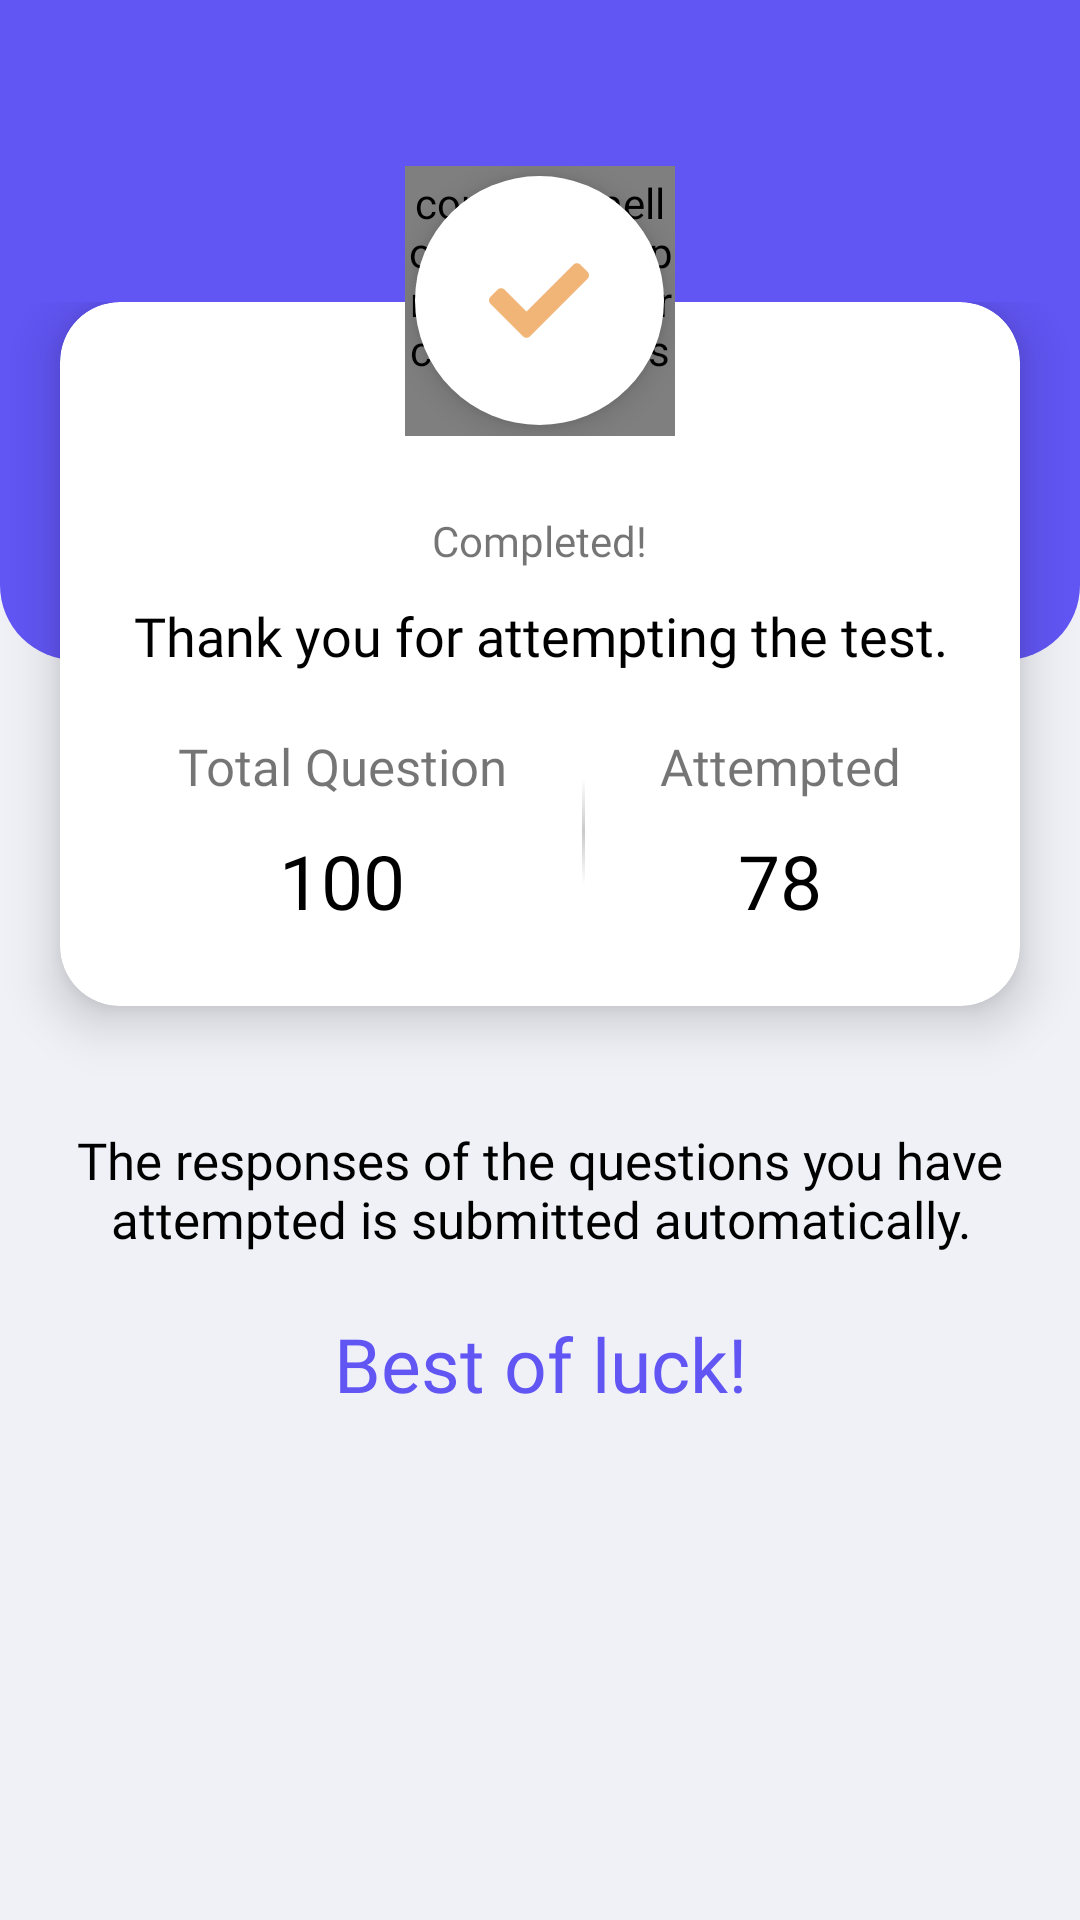

Icon bounding boxes for this 1080 x 1920 phone screenshot, format (x1, y1, x2, y2):
check: (489, 263, 589, 338)
